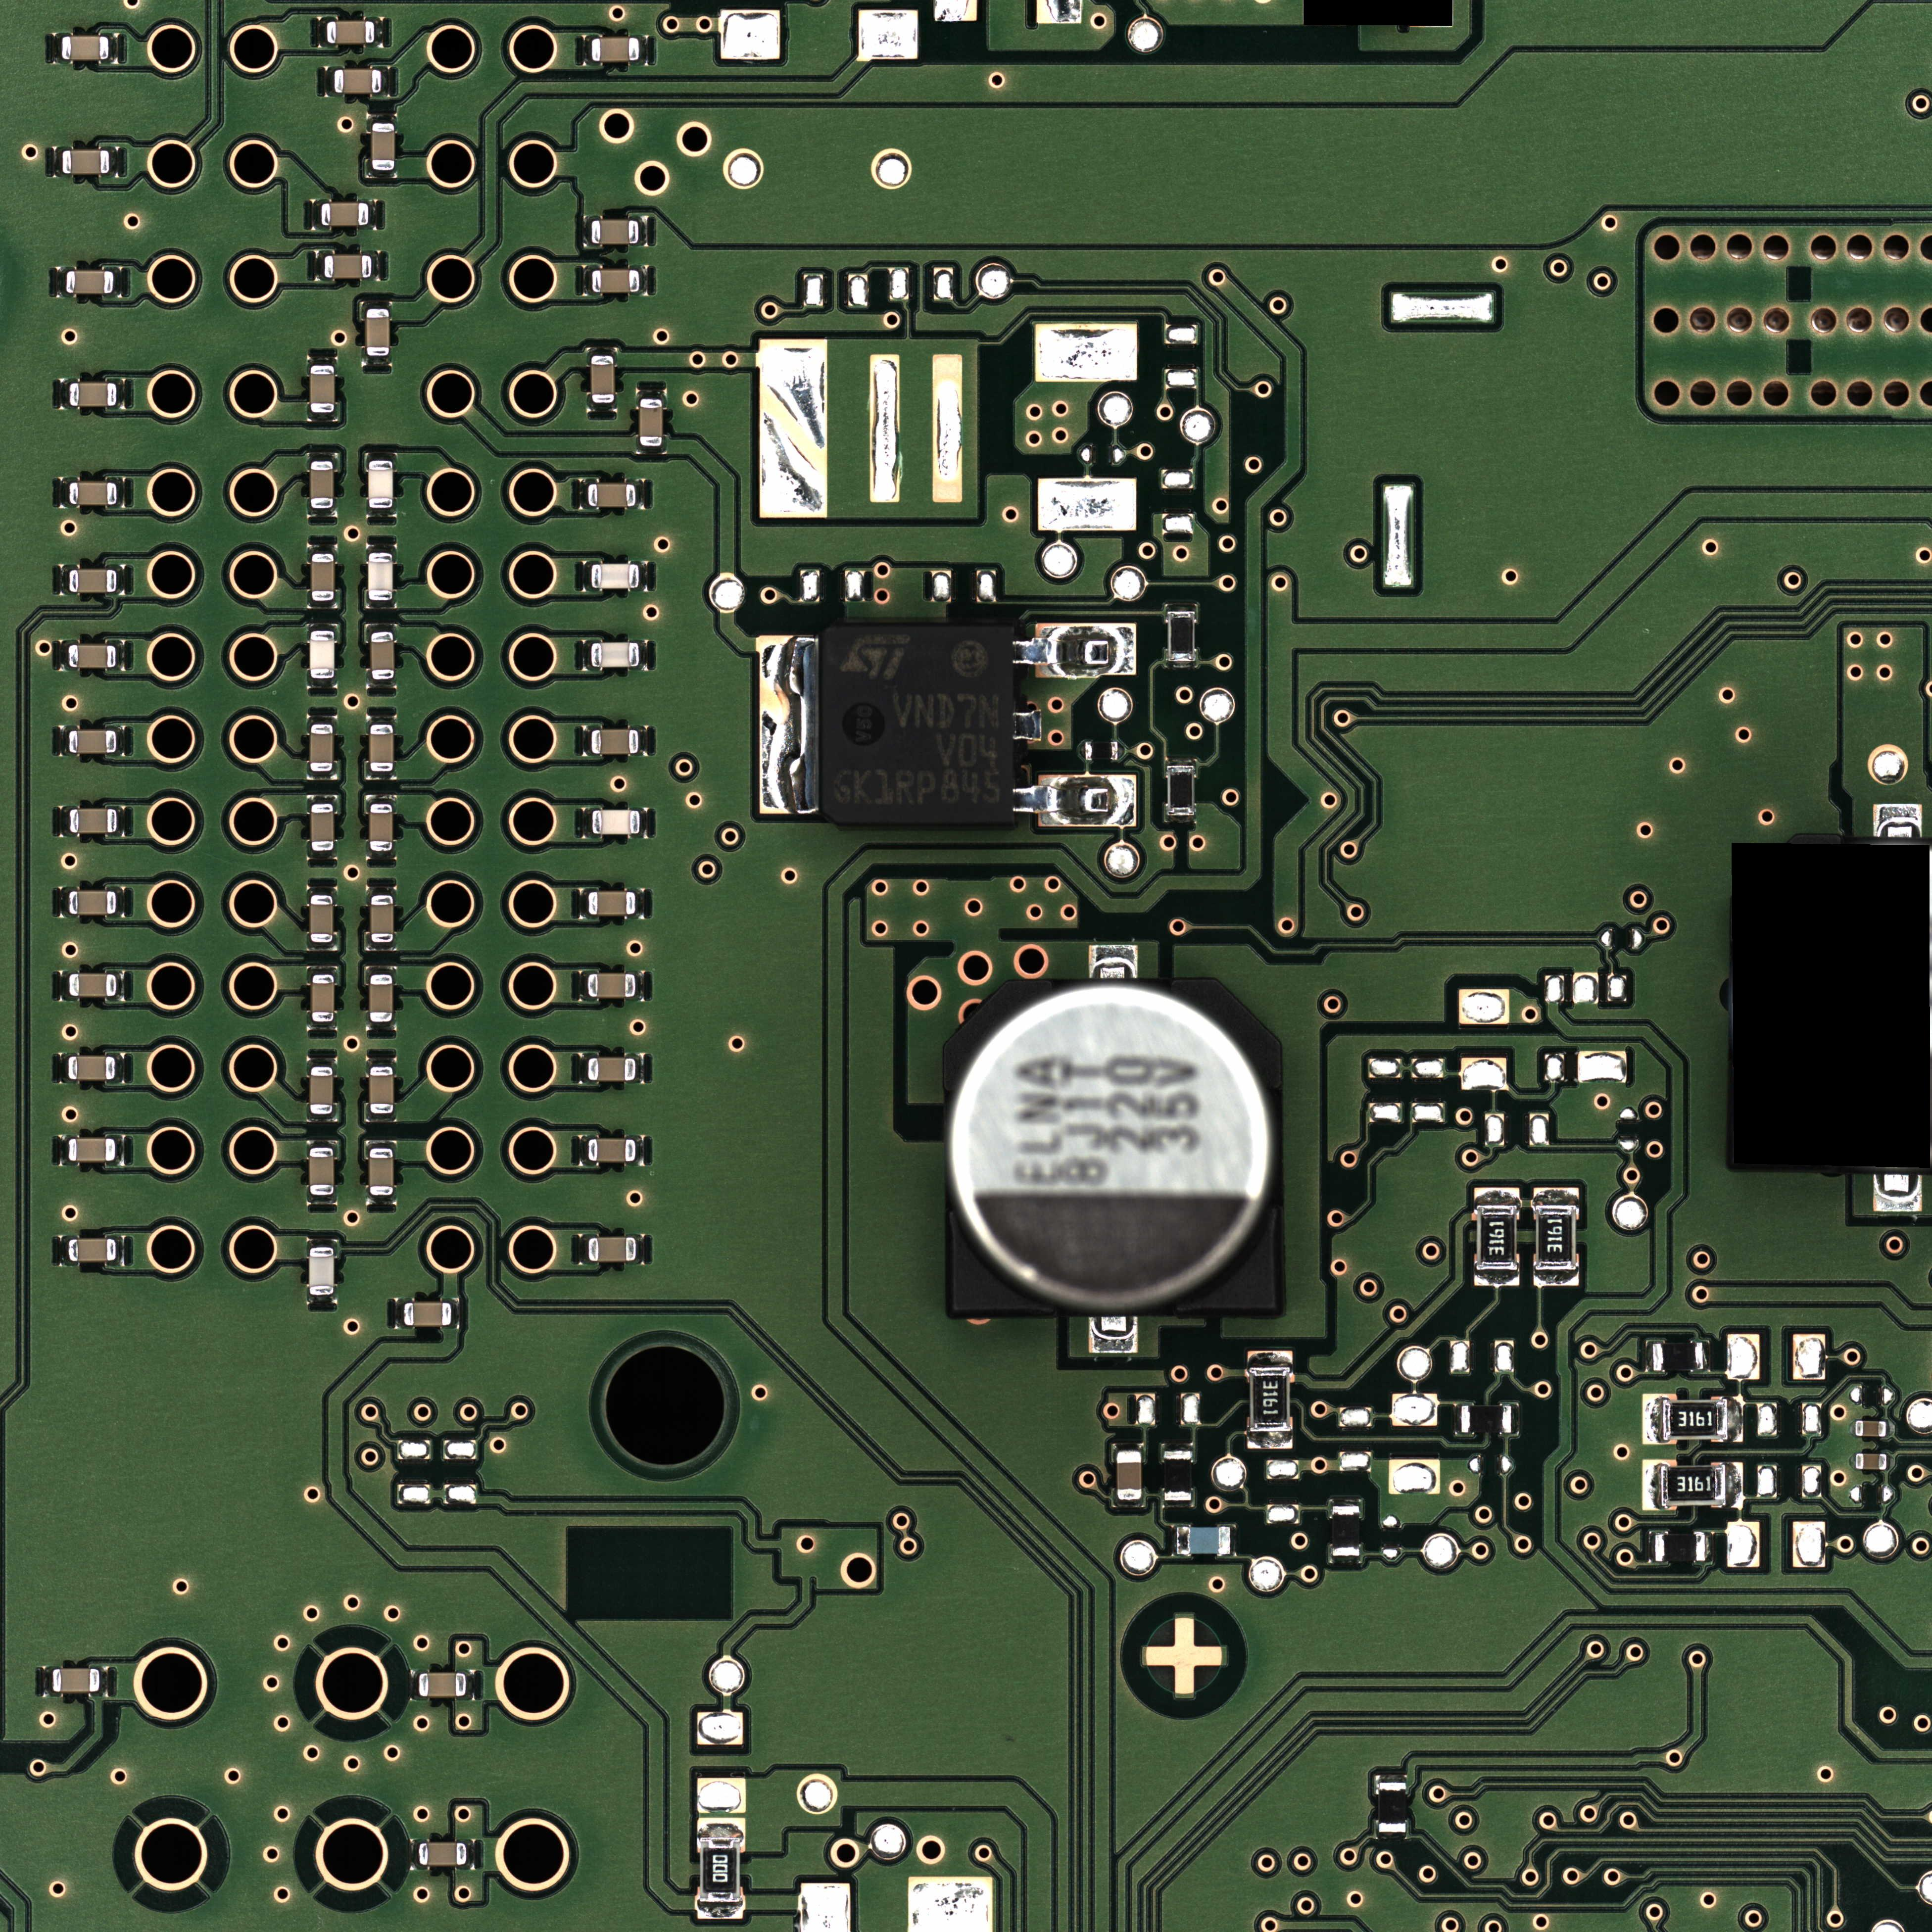Package: (943, 978, 1277, 1315), (819, 625, 1014, 824), (699, 1838, 741, 1902), (1661, 1465, 1725, 1507), (1536, 1205, 1576, 1270), (1249, 1368, 1290, 1431), (1663, 1399, 1727, 1440), (1477, 1207, 1516, 1270), (1177, 1527, 1230, 1555), (1654, 1534, 1706, 1562), (1652, 1343, 1704, 1371), (1332, 1506, 1361, 1555), (1461, 1405, 1511, 1433), (1378, 1783, 1407, 1833), (1168, 766, 1194, 816), (1168, 612, 1194, 662), (1164, 1451, 1191, 1500), (587, 1237, 637, 1261), (1116, 1451, 1141, 1500), (69, 644, 117, 669), (591, 219, 639, 244), (403, 1302, 451, 1327), (419, 1842, 467, 1867), (593, 810, 640, 835), (69, 890, 117, 915), (69, 809, 117, 833), (591, 564, 639, 589), (69, 382, 117, 407), (69, 729, 117, 754), (69, 481, 117, 506), (62, 35, 110, 60), (62, 150, 110, 175), (591, 729, 639, 754), (370, 632, 395, 679), (67, 1056, 115, 1081), (419, 1672, 467, 1697), (310, 1247, 334, 1295), (591, 642, 639, 667), (591, 37, 639, 62), (368, 460, 393, 508), (310, 724, 334, 771), (587, 973, 635, 998), (587, 1138, 635, 1162), (368, 552, 393, 600), (370, 724, 395, 771), (310, 364, 334, 412), (587, 483, 635, 508), (320, 202, 368, 226), (53, 1668, 99, 1693), (334, 69, 380, 94), (310, 632, 334, 678), (589, 892, 635, 916), (69, 1138, 115, 1162), (310, 462, 334, 508), (310, 1148, 334, 1194), (370, 1067, 395, 1113), (69, 570, 117, 593), (587, 1058, 635, 1081), (310, 895, 333, 943), (311, 803, 334, 851), (591, 269, 639, 292), (591, 356, 614, 403), (69, 973, 117, 996), (311, 554, 334, 602), (65, 271, 113, 294), (310, 1067, 333, 1115), (372, 122, 395, 170), (327, 21, 375, 44), (370, 895, 393, 943), (311, 975, 334, 1023), (69, 1238, 117, 1261), (370, 975, 393, 1023), (324, 255, 372, 278), (366, 310, 389, 356), (370, 805, 393, 851), (370, 1148, 393, 1194), (640, 398, 662, 446), (1086, 741, 1118, 761), (1856, 1421, 1886, 1437), (1856, 1454, 1886, 1468)
Solder: (759, 635, 819, 814), (1014, 773, 1136, 828), (1014, 623, 1136, 676), (1872, 1175, 1923, 1212), (1088, 1316, 1138, 1353), (1872, 803, 1923, 837), (1088, 945, 1138, 978), (1642, 1394, 1663, 1444), (1642, 1460, 1660, 1511), (1014, 711, 1042, 741), (697, 1819, 745, 1836), (1474, 1187, 1520, 1205), (1534, 1187, 1578, 1205), (1534, 1270, 1580, 1286), (1474, 1270, 1520, 1286), (1247, 1433, 1293, 1449), (697, 1904, 743, 1920), (1247, 1352, 1293, 1368), (1727, 1463, 1743, 1507), (1729, 1398, 1743, 1442), (313, 251, 324, 281), (409, 1670, 419, 1700), (324, 67, 334, 97), (409, 1840, 419, 1870), (363, 356, 391, 366), (364, 623, 398, 632), (364, 771, 396, 780), (635, 446, 667, 455), (306, 679, 338, 688), (364, 794, 396, 803), (308, 794, 340, 803), (364, 943, 396, 952), (364, 1139, 396, 1148), (364, 966, 396, 975), (306, 453, 338, 462), (308, 966, 340, 975), (451, 1297, 460, 1329), (60, 564, 69, 596), (308, 508, 338, 517), (366, 508, 396, 517), (308, 771, 338, 780), (366, 886, 396, 895), (308, 1196, 338, 1205), (366, 1058, 396, 1067), (308, 545, 338, 554), (366, 113, 396, 122), (366, 715, 396, 724), (366, 170, 396, 179), (1162, 1442, 1192, 1451), (366, 543, 396, 552), (366, 679, 396, 688), (582, 265, 591, 295), (372, 251, 380, 281), (582, 216, 591, 246), (579, 888, 587, 918), (582, 725, 591, 755), (1376, 1775, 1407, 1783), (308, 943, 338, 952), (579, 479, 587, 510), (308, 1238, 338, 1247), (308, 851, 338, 860), (366, 851, 396, 860), (467, 1670, 476, 1700), (1330, 1555, 1361, 1564), (366, 1023, 396, 1031), (60, 478, 69, 508), (311, 200, 320, 230), (317, 18, 326, 48), (582, 809, 591, 839), (640, 265, 649, 295), (57, 267, 65, 297), (582, 561, 591, 591), (60, 971, 69, 1001), (60, 807, 69, 837), (60, 725, 69, 755), (582, 640, 591, 671), (375, 18, 384, 48), (366, 1196, 396, 1205), (60, 379, 69, 409), (587, 347, 617, 356), (639, 216, 648, 246), (587, 403, 617, 412), (382, 67, 391, 97), (60, 640, 69, 671), (639, 725, 648, 755), (1453, 1405, 1461, 1435), (308, 1058, 336, 1067), (308, 356, 336, 364), (579, 971, 587, 1000), (308, 715, 336, 724), (637, 389, 665, 398), (308, 886, 336, 895), (467, 1840, 476, 1868), (115, 1136, 124, 1164), (60, 888, 69, 916), (115, 1054, 124, 1083), (308, 1295, 336, 1304), (306, 1139, 340, 1146), (306, 1023, 338, 1030), (1513, 1403, 1520, 1435), (364, 1115, 396, 1122), (1113, 1500, 1145, 1507), (366, 453, 398, 460), (359, 301, 391, 308), (364, 602, 396, 609), (1166, 662, 1198, 669), (637, 1233, 644, 1265), (308, 623, 340, 630), (1166, 757, 1196, 764), (1166, 816, 1196, 823), (637, 971, 644, 1001), (1330, 1499, 1361, 1506), (1113, 1444, 1143, 1451), (308, 414, 338, 421), (308, 1115, 338, 1122), (370, 200, 377, 230), (308, 602, 338, 609), (60, 1136, 67, 1166), (1645, 1341, 1652, 1371), (637, 1136, 644, 1166), (1166, 603, 1196, 610), (101, 1667, 108, 1697), (1376, 1833, 1407, 1840), (1706, 1532, 1713, 1562), (580, 1235, 587, 1265), (637, 479, 644, 510), (580, 1053, 587, 1083), (60, 1053, 67, 1083), (55, 34, 62, 64), (115, 267, 122, 297), (1704, 1341, 1711, 1371), (1162, 1500, 1192, 1507), (55, 147, 62, 177), (637, 1053, 644, 1083), (640, 35, 648, 65), (110, 147, 117, 177), (60, 1235, 67, 1265), (396, 1299, 403, 1329), (117, 640, 124, 671), (584, 35, 591, 65), (640, 561, 648, 591), (640, 640, 648, 671), (640, 809, 648, 839), (117, 1235, 124, 1265), (44, 1667, 51, 1697), (637, 888, 644, 918), (110, 34, 117, 64), (117, 379, 124, 409), (580, 1136, 587, 1164), (117, 727, 124, 755), (117, 888, 124, 916), (117, 971, 124, 1000), (1649, 1530, 1654, 1562), (1231, 1525, 1237, 1555), (1171, 1525, 1177, 1555), (1886, 1454, 1895, 1470), (1886, 1421, 1895, 1437), (1849, 1421, 1856, 1437), (1849, 1454, 1856, 1468), (1118, 741, 1123, 759), (1079, 743, 1085, 759)
